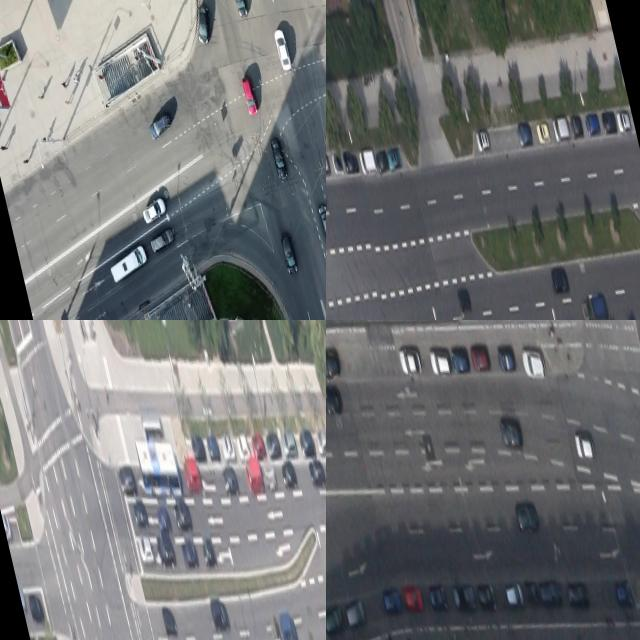UAI: (519, 344, 547, 382), (498, 413, 525, 452), (191, 2, 215, 45), (513, 499, 540, 535), (564, 578, 591, 612), (279, 231, 299, 275), (272, 28, 292, 71), (181, 457, 203, 496), (451, 582, 477, 615), (269, 137, 288, 180), (155, 533, 177, 570), (243, 458, 265, 495), (140, 196, 169, 224), (146, 113, 173, 142), (538, 578, 563, 609), (209, 598, 231, 633), (401, 583, 425, 615), (475, 582, 498, 615), (240, 76, 259, 115), (494, 341, 517, 373), (573, 431, 596, 463), (502, 578, 525, 610), (116, 463, 137, 497), (305, 455, 326, 489), (148, 228, 176, 253), (428, 347, 452, 376), (398, 347, 422, 376), (172, 500, 193, 533), (614, 579, 635, 612), (380, 586, 403, 616), (179, 535, 199, 569), (344, 598, 367, 627), (276, 610, 298, 640), (469, 342, 491, 372), (449, 345, 471, 375), (426, 582, 448, 612), (26, 591, 45, 625), (136, 533, 155, 567), (160, 604, 179, 638), (279, 427, 298, 460), (220, 465, 240, 496), (326, 604, 346, 635), (279, 459, 298, 490), (297, 427, 316, 458), (131, 498, 149, 530), (264, 430, 282, 462), (326, 384, 344, 416), (550, 266, 570, 294), (551, 115, 571, 143), (589, 292, 608, 320), (358, 148, 377, 176), (249, 431, 266, 461), (234, 431, 251, 461), (326, 346, 341, 379), (201, 539, 218, 568), (219, 433, 236, 462), (523, 579, 540, 607), (600, 109, 618, 135), (515, 121, 533, 147), (156, 505, 172, 534), (190, 435, 206, 462), (583, 111, 600, 136), (342, 149, 359, 174), (205, 434, 220, 462), (568, 113, 584, 139), (456, 287, 472, 313), (262, 464, 277, 491), (615, 109, 632, 132), (535, 121, 551, 145), (316, 202, 326, 240), (385, 146, 402, 168), (474, 129, 490, 152), (374, 149, 389, 173), (231, 0, 249, 17), (330, 151, 343, 173), (315, 430, 326, 456), (268, 620, 282, 640), (580, 298, 592, 320), (326, 151, 330, 174)
car: (133, 432, 183, 503)
harvester: (106, 244, 150, 283)
